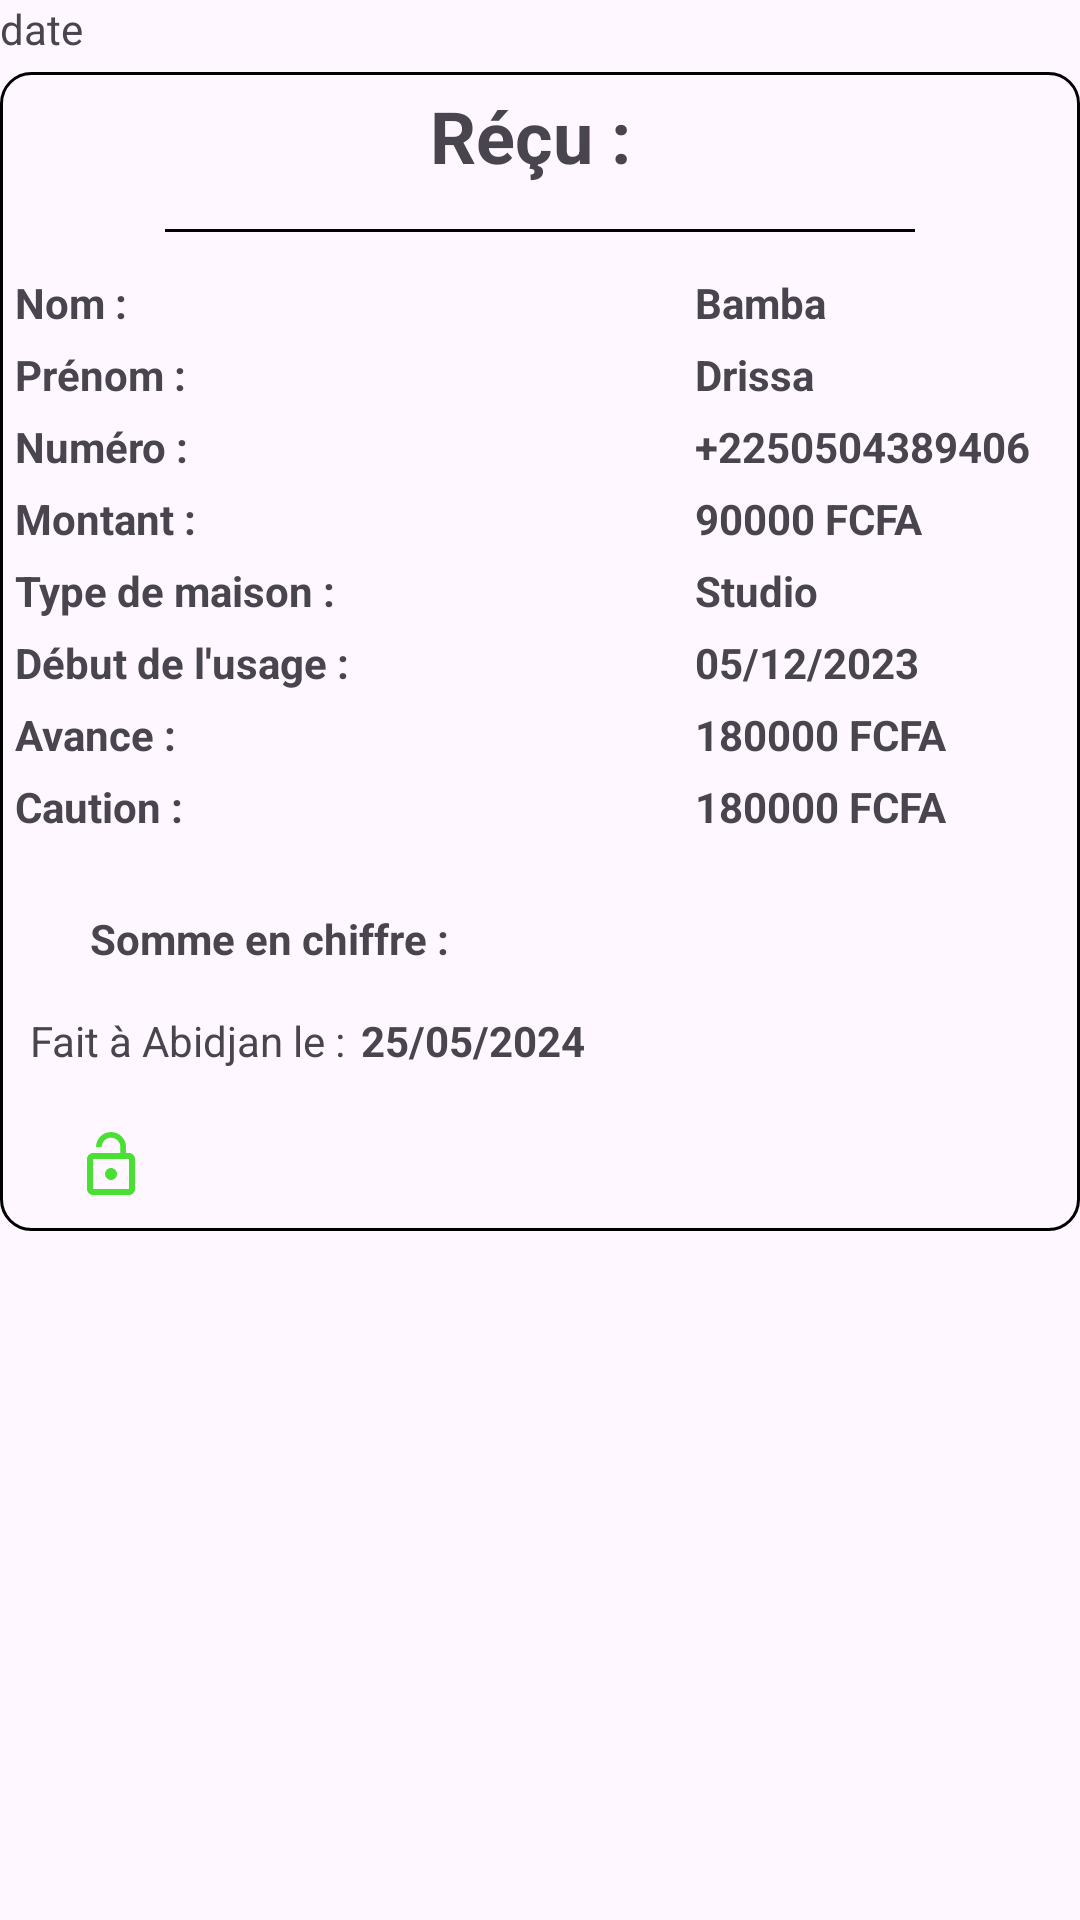

Icon bounding boxes for this 1080px×1920px phone screenshot, format (x1, y1, x2, y2):
open: (87, 1132, 135, 1195)
